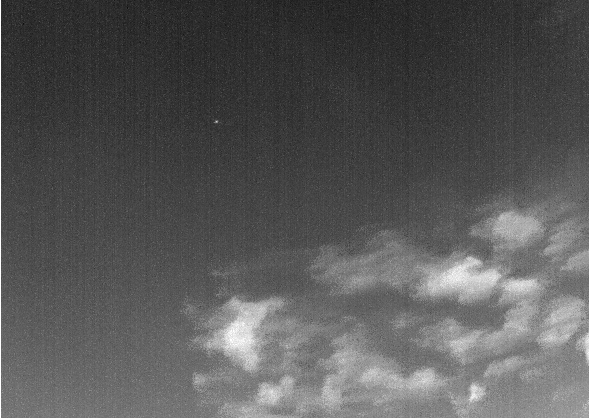dim target: (213, 119, 219, 124)
